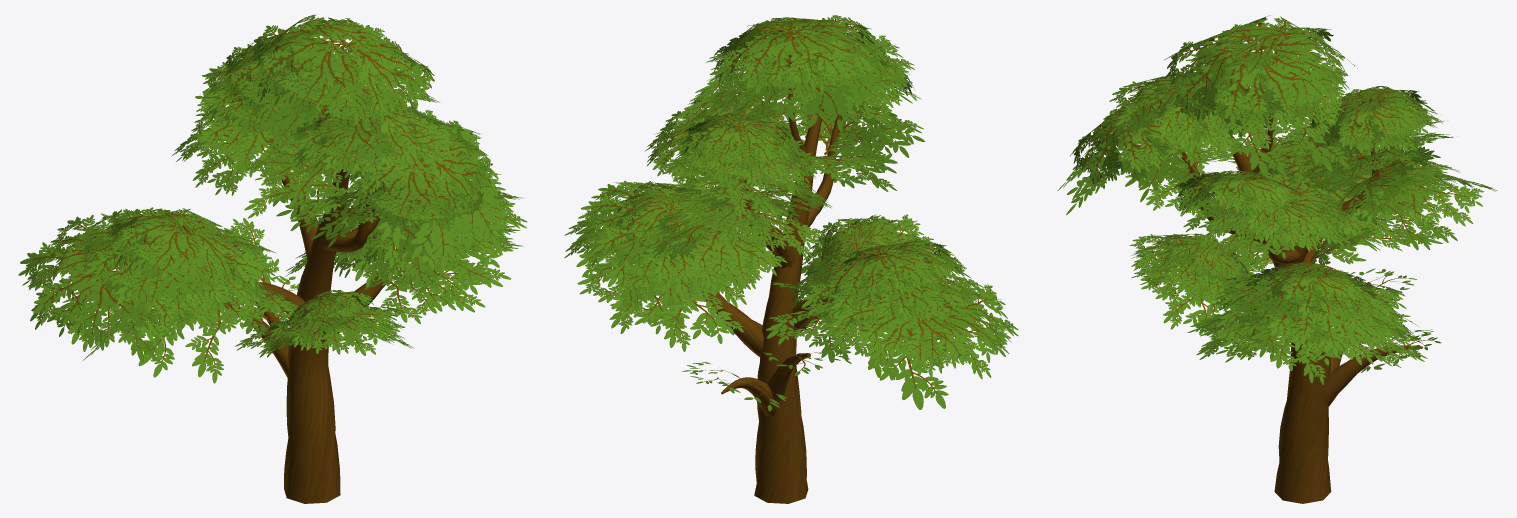
File: tree_2.fbx
3 views of the same model, side by side, from view 1: azimuth 30°, elevation 25°; view 2: azimuth 150°, elevation 25°; view 3: azimuth 270°, elevation 25° (orthographic). The views are drawn at different scales.
Visible parts, largest first — view 1: tress, truck1; view 2: tress, truck1; view 3: tress, truck1.
Boxes of the visible parts, x1,y1,x2,y2 form: tress: (18, 14, 527, 383); truck1: (225, 51, 404, 503); tress: (564, 15, 1018, 411); truck1: (702, 55, 894, 503); tress: (1057, 15, 1497, 384); truck1: (1178, 114, 1422, 503).
Bounding box in the file's own units: 30.6 × 29.46 × 26.29.
